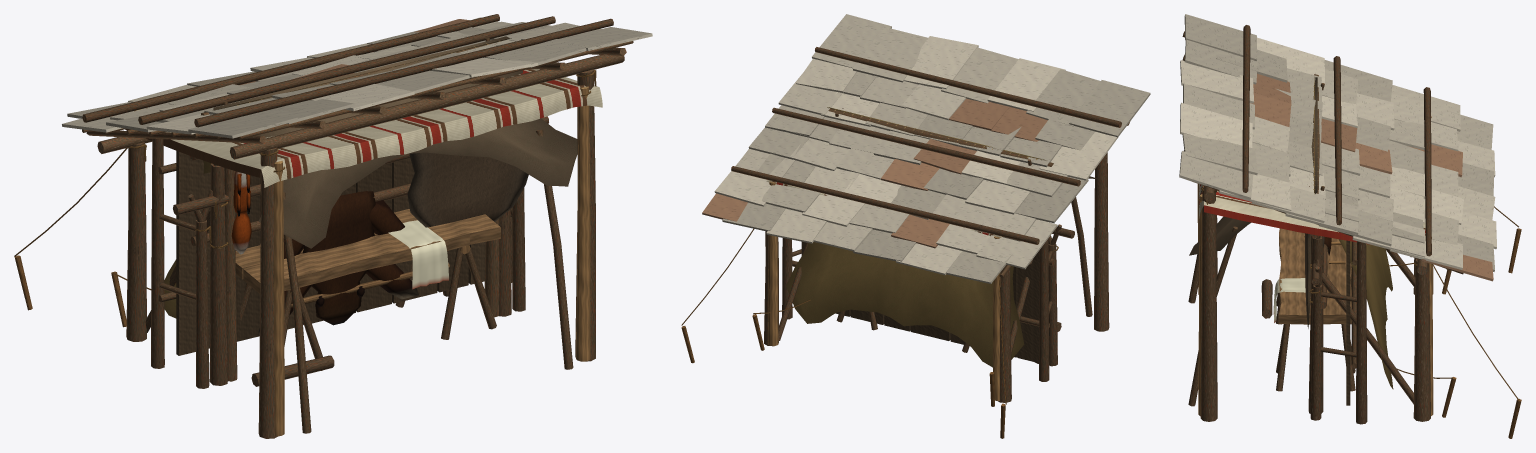
Rendered from market.glb.
3 renders of one model, left to right at view 1: azimuth 30°, elevation 25°; view 2: azimuth 150°, elevation 25°; view 3: azimuth 270°, elevation 25°, orthographic. The views are drawn at different scales.
Visible parts, largest first — view 1: katos_tuohi, turkisteline, katos_vaate, katos_nahka, aseteline, myyntipoyta; view 2: katos_tuohi, katos_nahka, aseteline, katos_vaate, turkisteline; view 3: katos_tuohi, aseteline, katos_nahka, myyntipoyta, katos_vaate, turkisteline.
Part boxes in pixels (<box>): katos_tuohi: <box>62,14,652,438</box>; turkisteline: <box>145,152,528,385</box>; katos_vaate: <box>14,45,602,436</box>; katos_nahka: <box>111,36,577,433</box>; aseteline: <box>151,116,548,388</box>; myyntipoyta: <box>235,209,500,370</box>; katos_tuohi: <box>702,14,1150,402</box>; katos_nahka: <box>752,107,1098,406</box>; aseteline: <box>782,224,1074,381</box>; katos_vaate: <box>681,180,1006,438</box>; turkisteline: <box>778,242,1055,363</box>; katos_tuohi: <box>1179,14,1496,421</box>; aseteline: <box>1261,240,1367,424</box>; katos_nahka: <box>1188,74,1456,417</box>; myyntipoyta: <box>1273,228,1355,391</box>; katos_vaate: <box>1197,116,1521,438</box>; turkisteline: <box>1304,233,1415,413</box>.
Bounding box in the file's own units: 4.05 × 2.87 × 3.37.
Materials: 7 (7 with a texture image).
